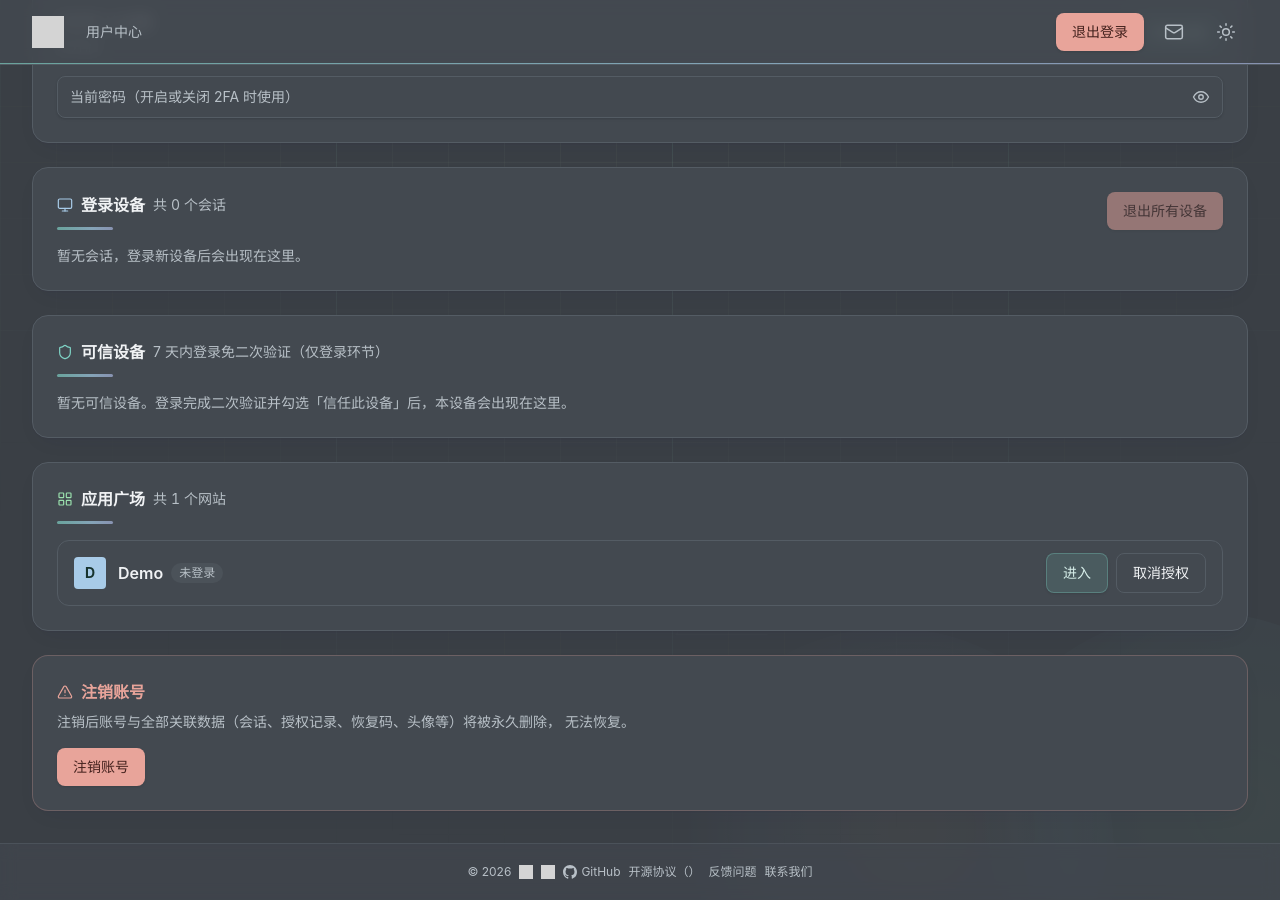
it: DashboardPage › 取消授权后应用从广场移除且不跳转目标网站
(page scrolled)
Check: the text "Demo" is shown, box [118, 561, 163, 585]
Click the button "取消授权" at point(1161, 573), box [1116, 553, 1206, 593]
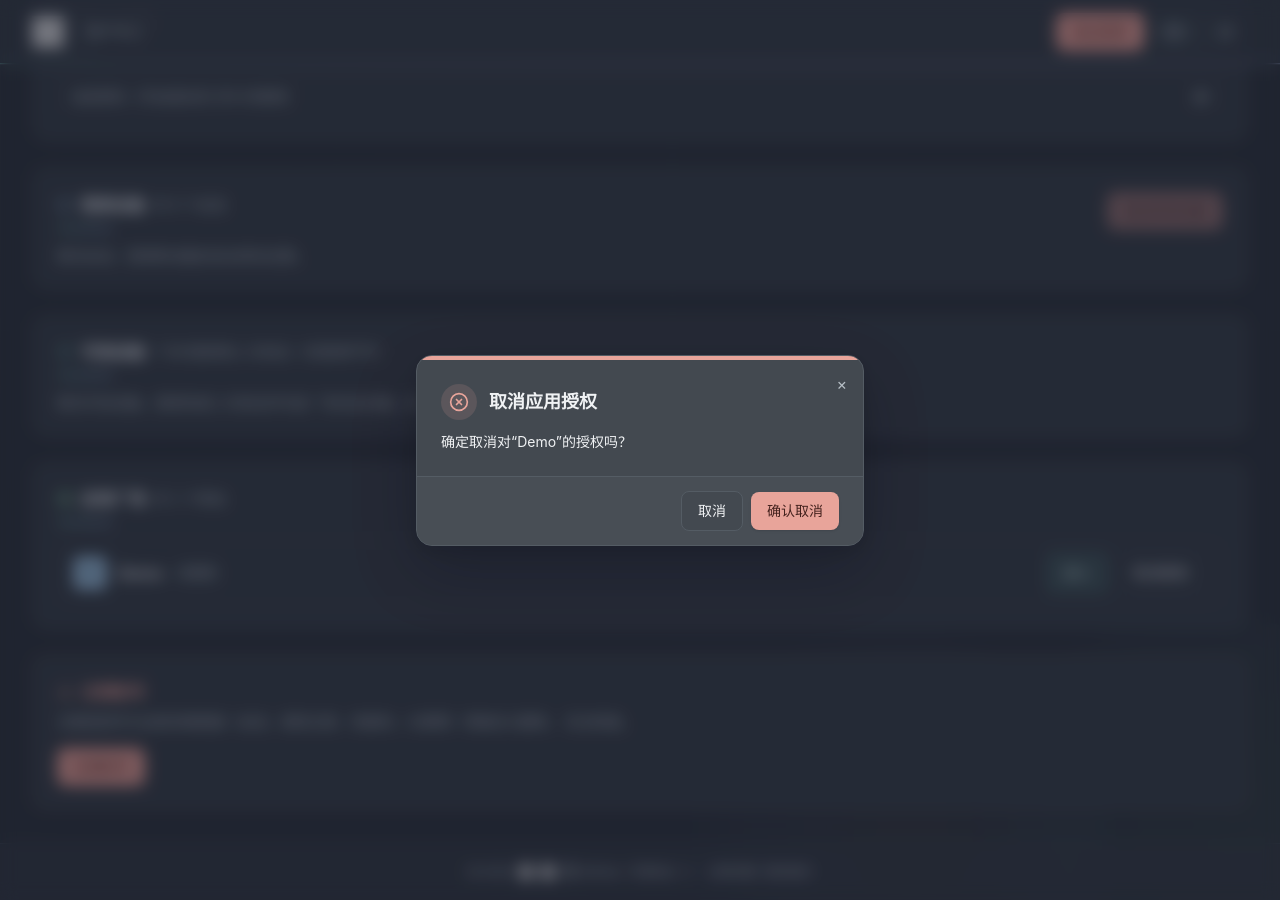
Click the button "确认取消" at point(795, 510), box [751, 492, 839, 530]
(page scrolled)
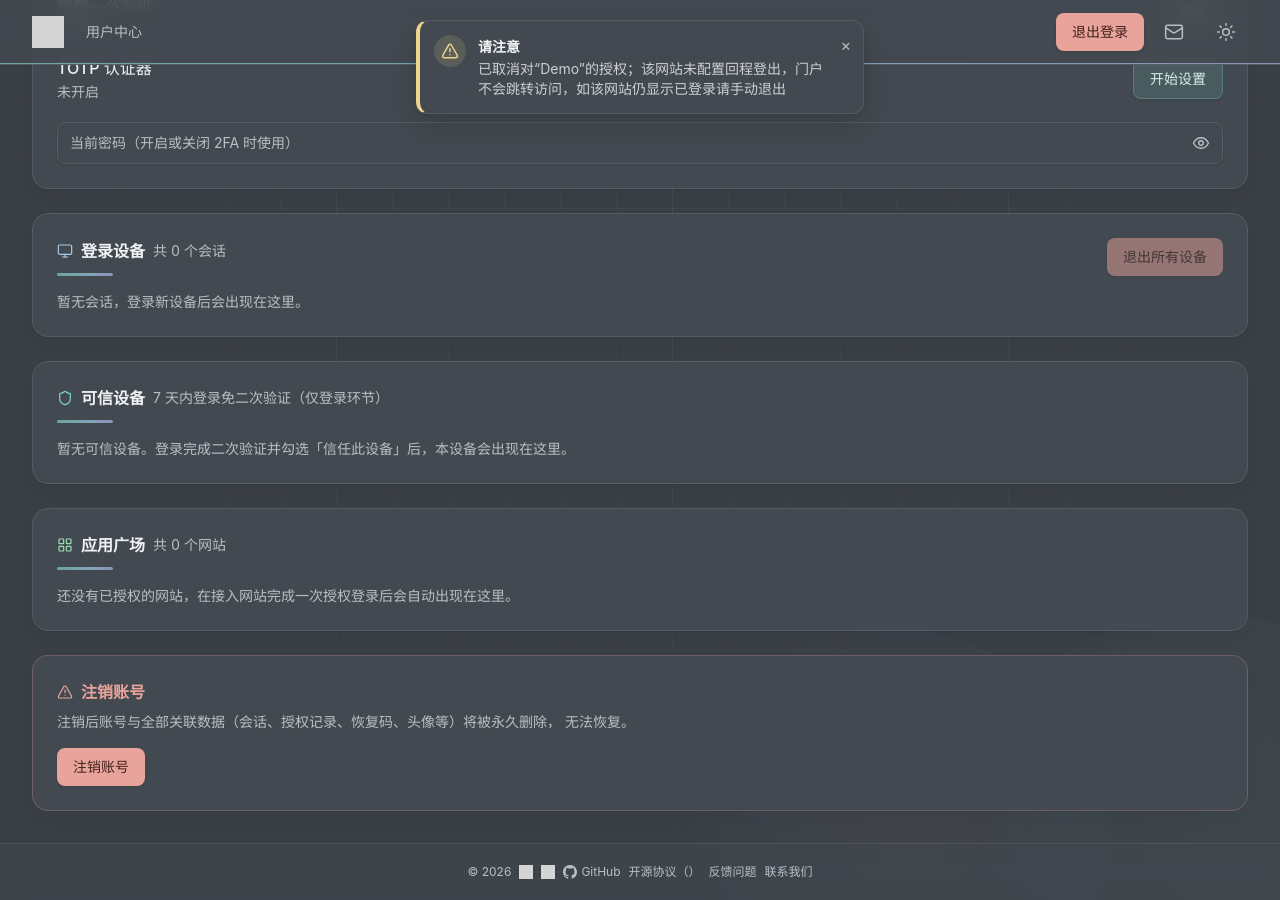
Check: the text "已取消对“Demo”的授权；该网站未配置回程登出，门户不会跳转访问，如该网站仍显示已登录请手动退出" is shown, box [478, 59, 823, 99]
